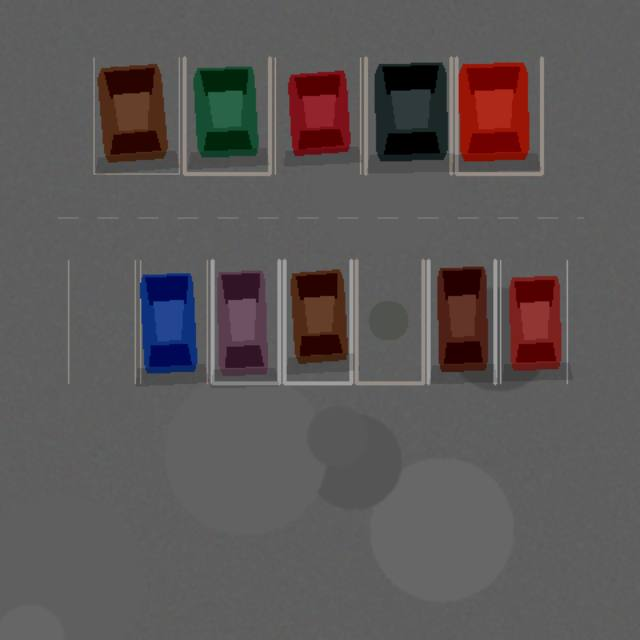space-empty: (68, 260, 135, 383), (356, 260, 423, 383)
space-occupied: (93, 57, 179, 173), (365, 57, 451, 173), (184, 57, 269, 173), (275, 57, 360, 173), (456, 57, 541, 173), (140, 260, 207, 383), (212, 260, 279, 383), (284, 260, 351, 383), (428, 260, 495, 383), (500, 260, 567, 383)
